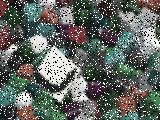Left: (31, 45, 81, 103)
